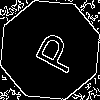P: (25, 25, 82, 77)
